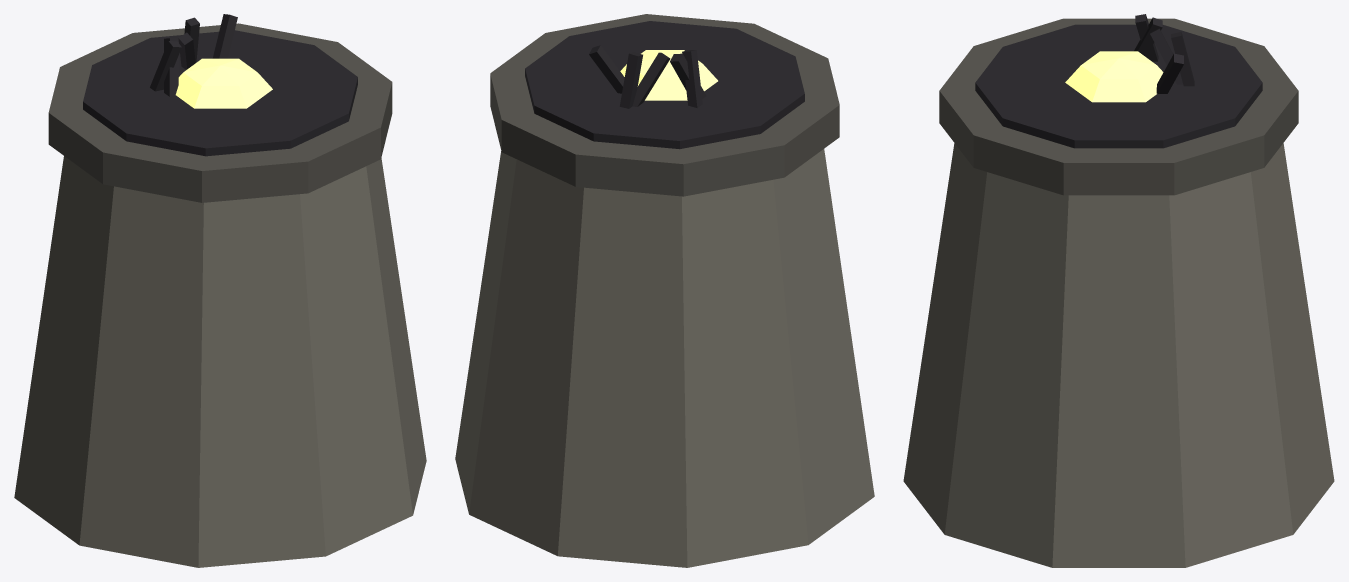
Rendered from sanseong_beacon.glb.
3 renders of one model, left to right at view 1: azimuth 30°, elevation 25°; view 2: azimuth 150°, elevation 25°; view 3: azimuth 270°, elevation 25°, orthographic. The views are drawn at different scales.
Parts seen in each view (by area): view 1: sanseong_beacon; view 2: sanseong_beacon; view 3: sanseong_beacon.
Part boxes in pixels (bbox=[...]): sanseong_beacon: bbox=[14, 14, 426, 567]; sanseong_beacon: bbox=[455, 14, 874, 567]; sanseong_beacon: bbox=[903, 14, 1334, 567].
Size of the model in its own units: 2.28 by 2.75 by 2.4.
